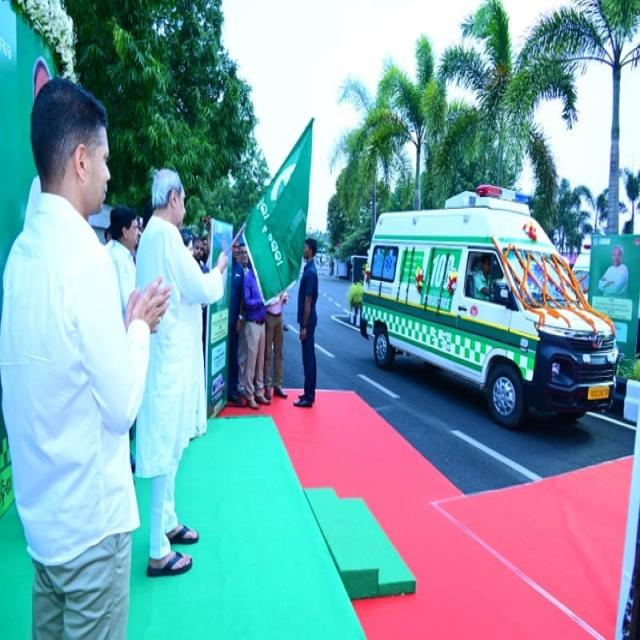emergency: (361, 186, 620, 426)
